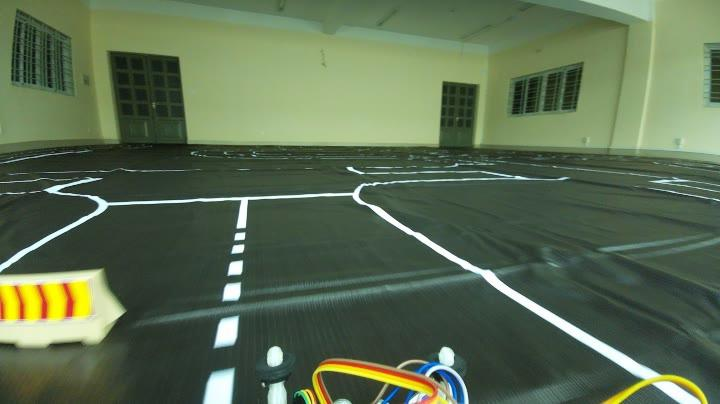roadblock: (0, 270, 117, 351)
